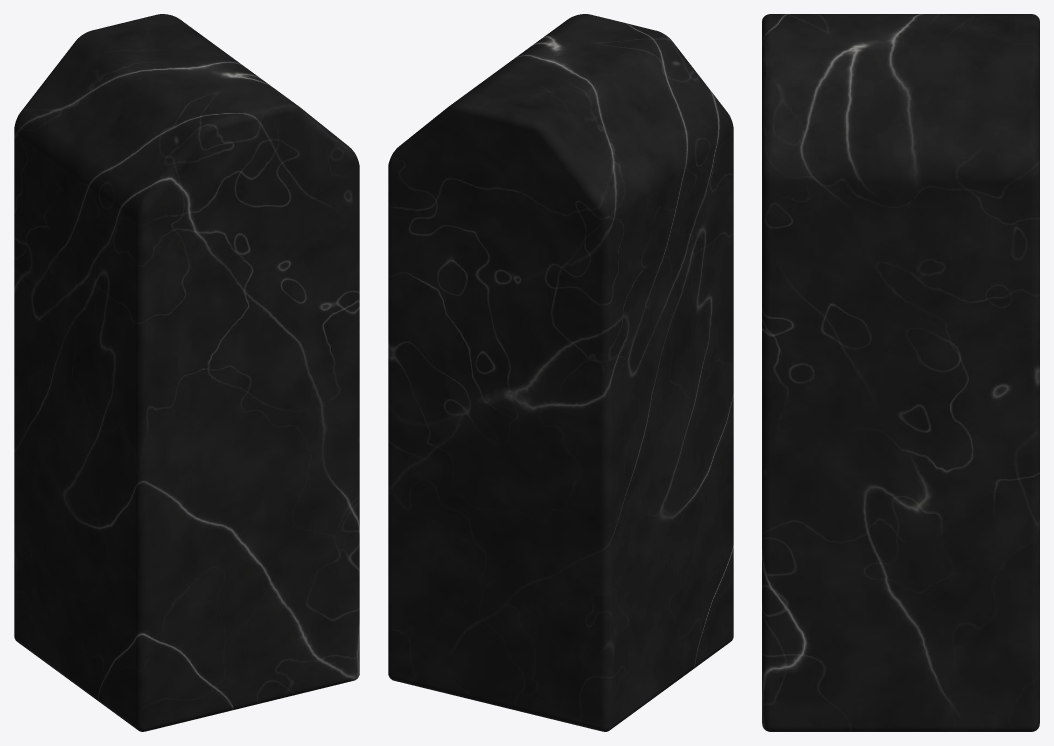
Rendered from pawn-black-hd.glb.
3 views of the same model, side by side, from view 1: azimuth 30°, elevation 25°; view 2: azimuth 150°, elevation 25°; view 3: azimuth 270°, elevation 25° (orthographic). The views are drawn at different scales.
Parts seen in each view (by area): view 1: pesec_cerny; view 2: pesec_cerny; view 3: pesec_cerny.
Part boxes in pixels (x1,y1,x2,y2): pesec_cerny: [14, 14, 359, 731]; pesec_cerny: [388, 14, 733, 731]; pesec_cerny: [762, 14, 1039, 731].
Size of the model in its own units: 0.4274 by 1.09 by 0.4274.
1 material, 1 textured.
